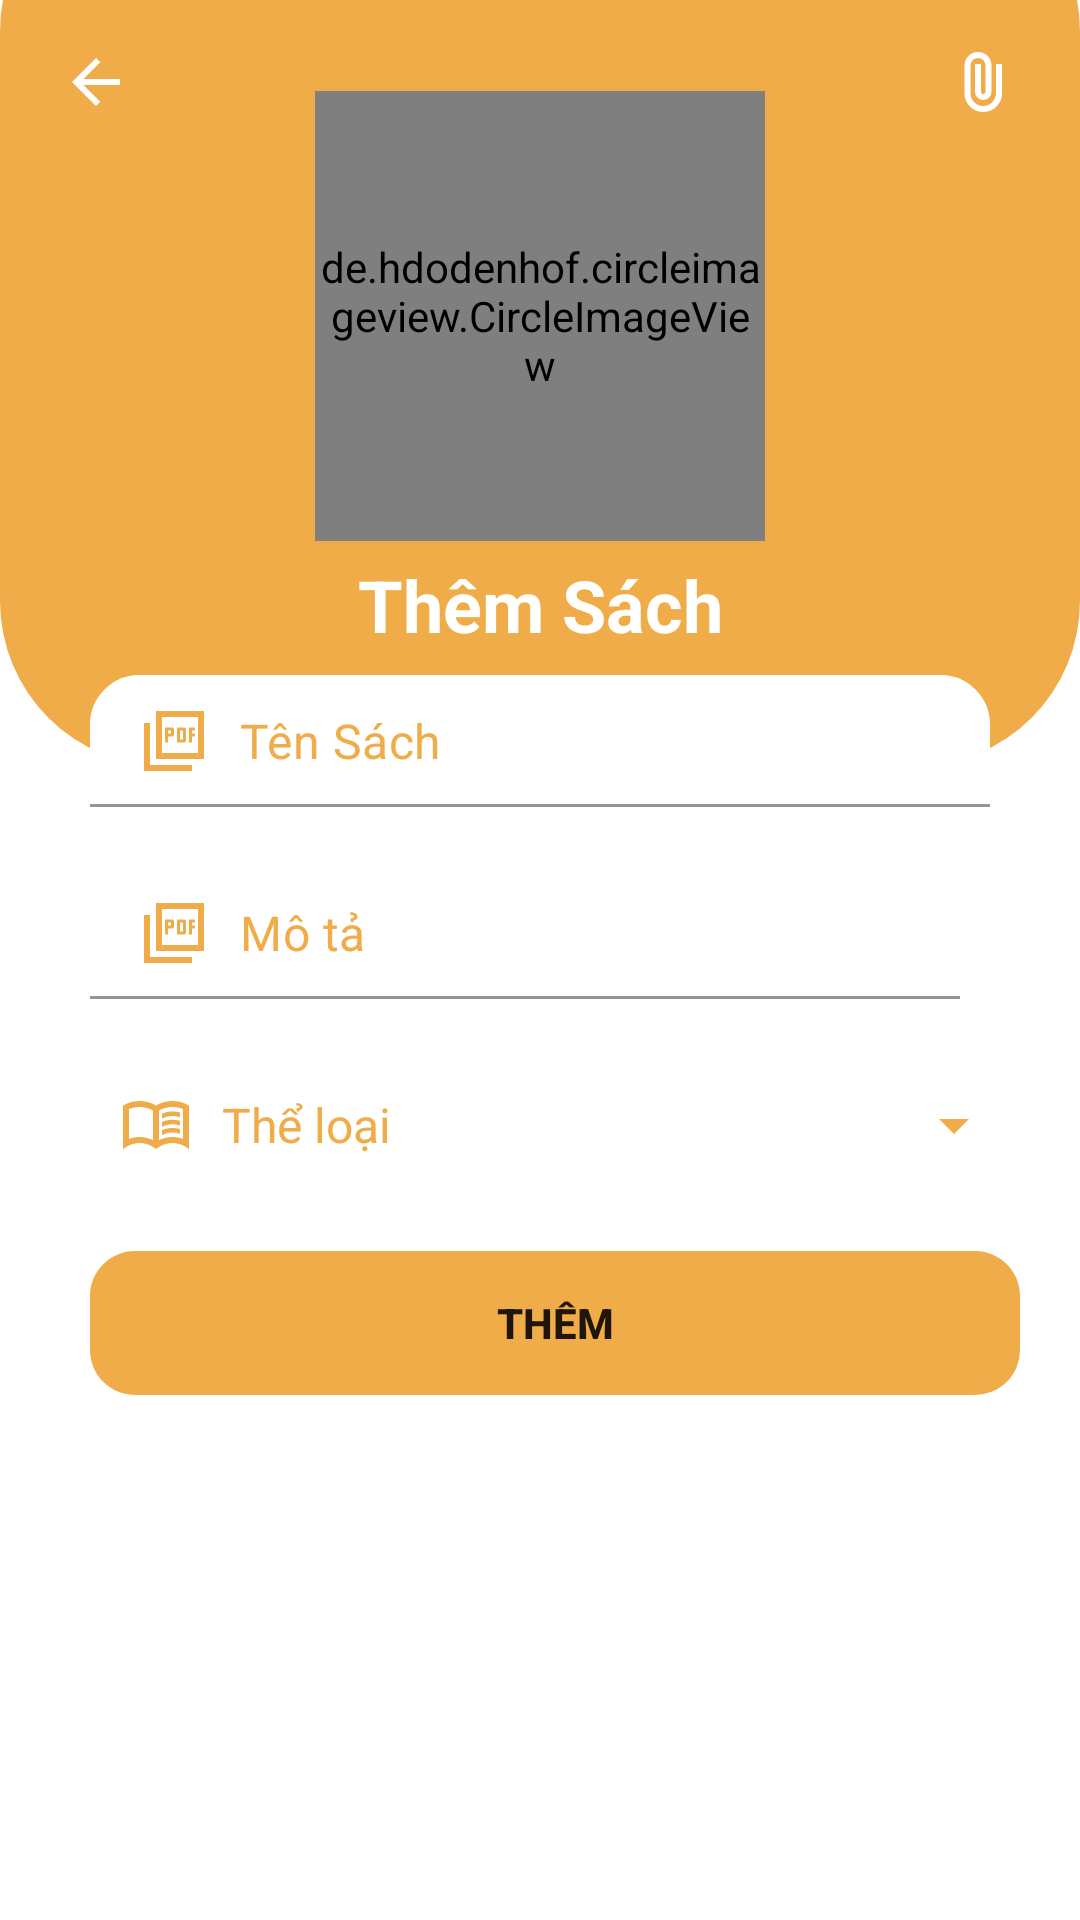

Point at icon controls on the screen. Image size 1080px x 1920px, points as [x,y].
attach file: [983,82]
back: [96,82]
